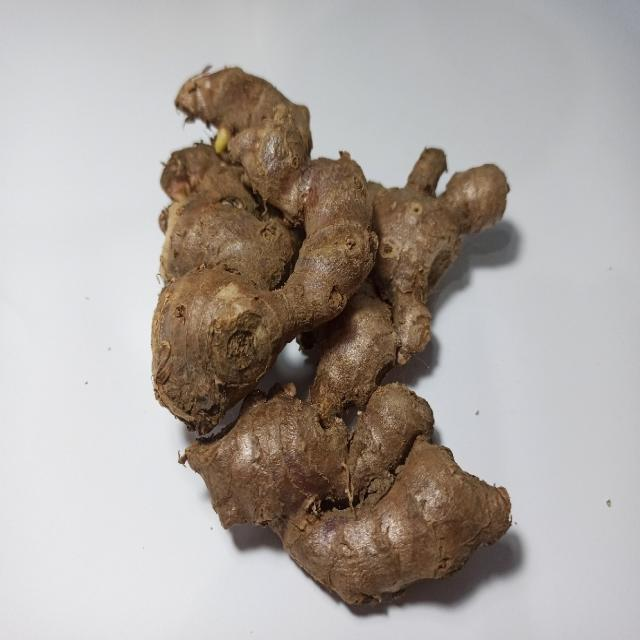ginger: (157, 66, 512, 607)
